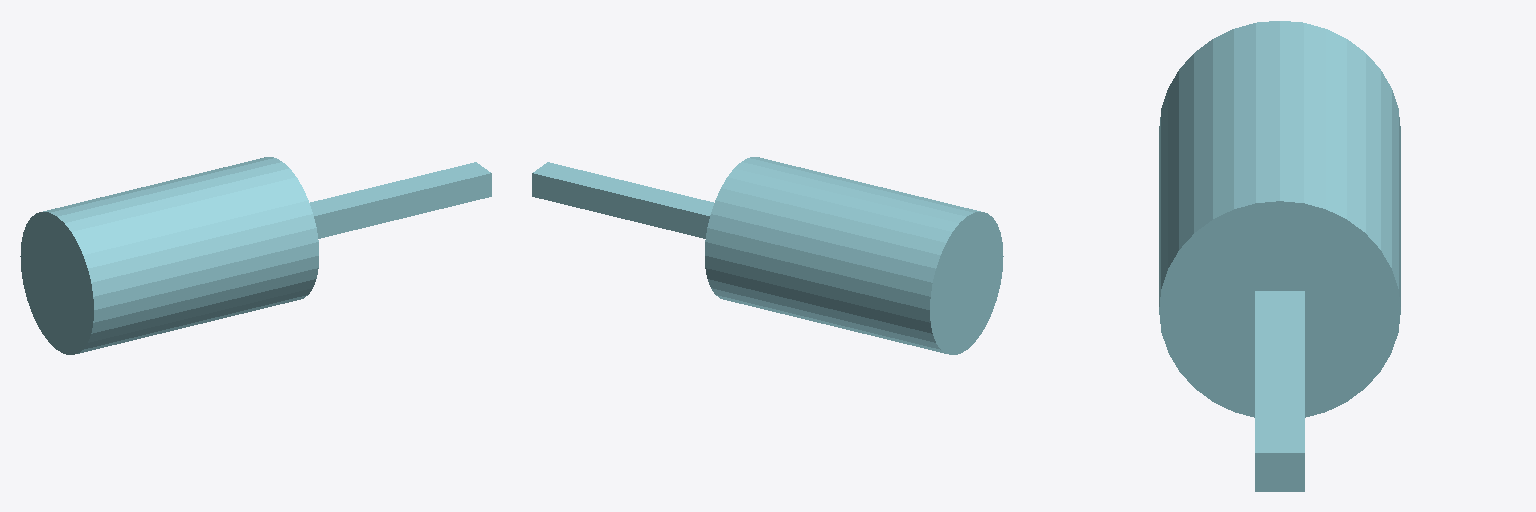
robot.urdf — cylinder_screwdriver_v3003:
<?xml version="1.0"?>
<robot name="cylinder_screwdriver_v3003">

  <link name="cylinder_screwdriver_v3003">
    <!-- Handle -->
    <visual>
      <origin xyz="0 0 0" rpy="0 1.5707963267948966 0"/>
      <geometry>
        <cylinder length="0.11287860720612788" radius="0.03194199048390274"/>
      </geometry>
      <material name="material">
        <color rgba="0.639 0.847 0.882 1.0"/>
      </material>
    </visual>
    <collision>
      <origin xyz="0 0 0" rpy="0 1.5707963267948966 0"/>
      <geometry>
        <cylinder length="0.11287860720612788" radius="0.03194199048390274"/>
      </geometry>
    </collision>

    <!-- Head -->
    <visual>
      <origin xyz="0.10684288344707808 0 0" rpy="0 0 0"/>
      <geometry>
        <box size="0.10080715968802828 0.013197816356185551 0.011332316587504231"/>
      </geometry>
      <material name="material">
        <color rgba="0.639 0.847 0.882 1.0"/>
      </material>
    </visual>
    <collision>
      <origin xyz="0.10684288344707808 0 0" rpy="0 0 0"/>
      <geometry>
        <box size="0.10080715968802828 0.013197816356185551 0.011332316587504231"/>
      </geometry>
    </collision>

    <inertial>
      <density value="400.0"/>
    </inertial>
  </link>

</robot>

--- Facts derived from the render (not from the file) ---
Views: 3 orthographic renders of the robot side by side, from view 1: azimuth 30°, elevation 25°; view 2: azimuth 150°, elevation 25°; view 3: azimuth 270°, elevation 25°.
Robot: cylinder_screwdriver_v3003 — 1 links, 0 joints (none); root link cylinder_screwdriver_v3003; default pose: every joint at zero.
Links seen in each view (by area): view 1: cylinder_screwdriver_v3003; view 2: cylinder_screwdriver_v3003; view 3: cylinder_screwdriver_v3003.
Link boxes in pixels (<box>): cylinder_screwdriver_v3003: <box>20,157,491,354</box>; cylinder_screwdriver_v3003: <box>532,157,1003,354</box>; cylinder_screwdriver_v3003: <box>1159,21,1400,491</box>.
Size in the robot's own frame: 0.2137 by 0.0639 by 0.0639 metres.
Geometry: primitives only (box / cylinder / sphere), no mesh files.
